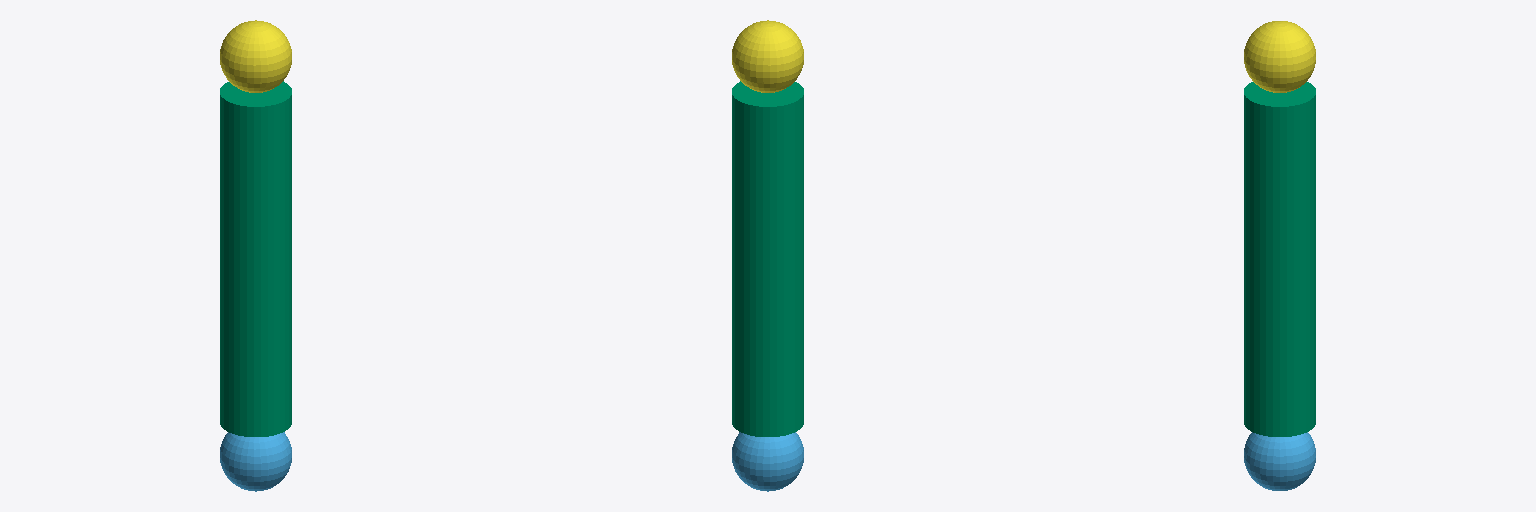
The robot description file, URDF, robot "panda_description":
<?xml version="1.0" encoding="utf-8"?>
<!-- =================================================================================== -->
<!-- |    This document was autogenerated by xacro from panda.urdf.xacro               | -->
<!-- |    EDITING THIS FILE BY HAND IS NOT RECOMMENDED                                 | -->
<!-- =================================================================================== -->
<robot name="panda_description">
  <link name="world"/>
  <joint name="robot_to_world" type="fixed">
    <parent link="world"/>
    <child link="panda_link0"/>
    <origin rpy="0.0 0.0 0.0" xyz="0.0 0.0 0.1"/>
  </joint>
  <!-- end for simulation -->
  <link name="panda_link0">
    <visual>
      <geometry>
        <sphere radius="0.1"/>
      </geometry>
    </visual>
    <collision>
      <geometry>
        <sphere radius="0.1"/>
      </geometry>
    </collision>
    <!-- for simulation -->
    <inertial>
      <origin rpy="0 0 0" xyz="0 0 0.05"/>
      <mass value="1.00"/>
      <inertia ixx="0.25083" ixy="0.0" ixz="0.0" iyy="0.25083" iyz="0.0" izz="0.5"/>
    </inertial>
    <!-- end for simulation -->
  </link>
  <link name="panda_link1">
    <visual>
      <origin xyz="0 0 0.6" rpy="0 0 0"/>
      <geometry>
        <cylinder length="1.0" radius="0.1"/>
      </geometry>
    </visual>
    <collision>
      <origin xyz="0 0 0.6" rpy="0 0 0"/>
      <geometry>
        <cylinder length="1.0" radius="0.1"/>
      </geometry>
    </collision>
    <!-- for simulation -->
    <inertial>
      <origin rpy="0 0 0" xyz="0 0 0.5"/>
      <mass value="1.0"/>
      <inertia ixx="0.0858" ixy="0.0" ixz="0.0" iyy="0.0858" iyz="0.0" izz="0.005"/>
    </inertial>
    <!-- end for simulation -->
  </link>
  <joint name="panda_joint1" type="revolute">
    <safety_controller k_position="100.0" k_velocity="40.0" soft_lower_limit="-2.8973" soft_upper_limit="2.8973"/>
    <origin rpy="0 0 0" xyz="0 0 0.0"/>
    <parent link="panda_link0"/>
    <child link="panda_link1"/>
    <axis xyz="1 0 0"/>
    <limit effort="87" lower="-2.8973" upper="2.8973" velocity="2.1750"/>
    <!-- for simulation -->
    <dynamics damping="0.0" friction="0.0"/>
    <!-- end for simulation -->
  </joint>
  <link name="panda_link2">
    <visual>
      <origin xyz="0 0 0.005" rpy="0 0 0"/>
      <geometry>
        <sphere radius="0.1"/>
      </geometry>
    </visual>
    <collision>
      <geometry>
        <sphere radius="0.01"/>
      </geometry>
    </collision>
    <!-- for simulation -->
    <inertial>
      <origin rpy="0 0 0" xyz="0 0 0.005"/>
      <mass value="0.0001"/>
      <inertia ixx="0.00005" ixy="0.0" ixz="0.0" iyy="0.00005" iyz="0.0" izz="0.00005"/>
    </inertial>
    <!-- end for simulation -->
  </link>
  <joint name="panda_joint2" type="fixed">
    <origin rpy="0 0 0" xyz="0 0 1.2"/>
    <parent link="panda_link1"/>
    <child link="panda_link2"/>
    <axis xyz="0 0 1"/>
  </joint>
  <!-- end for simulation -->
</robot>

--- What the picture shows (computed from the rendered views, not written in the file) ---
The picture shows the robot from 3 angles, left to right: view 1: azimuth 30°, elevation 25°; view 2: azimuth 150°, elevation 25°; view 3: azimuth 270°, elevation 25°; orthographic projection.
Robot: panda_description — 4 links, 3 joints (1 revolute, 2 fixed); root link world; default pose: all joints at 0.
Links seen in each view (by area): view 1: panda_link1, panda_link2, panda_link0; view 2: panda_link1, panda_link2, panda_link0; view 3: panda_link1, panda_link2, panda_link0.
Boxes of the visible links, x1,y1,x2,y2 form: panda_link1: (220,81,291,436); panda_link2: (220,20,291,92); panda_link0: (220,432,291,491); panda_link1: (732,81,803,436); panda_link2: (732,20,803,92); panda_link0: (732,432,803,491); panda_link1: (1244,82,1315,436); panda_link2: (1244,21,1315,92); panda_link0: (1244,432,1315,490).
Size in the robot's own frame: 0.2 by 0.2 by 1.41 metres.
Geometry: primitives only (box / cylinder / sphere), no mesh files.